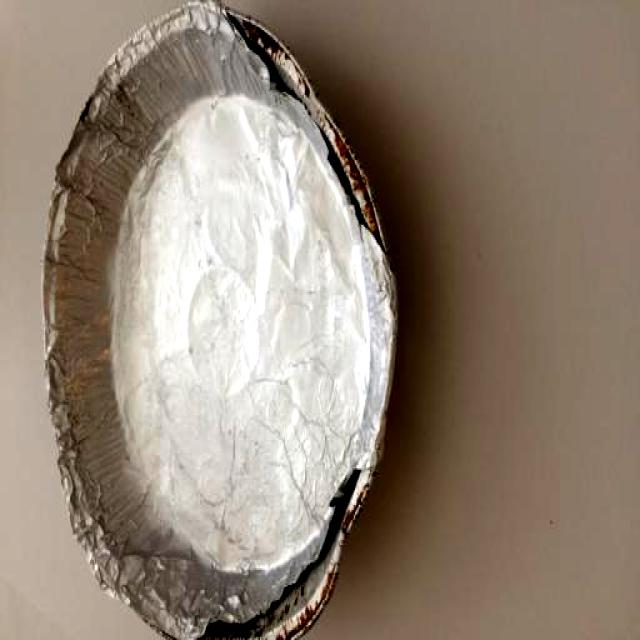Trash: (37, 0, 401, 640)
